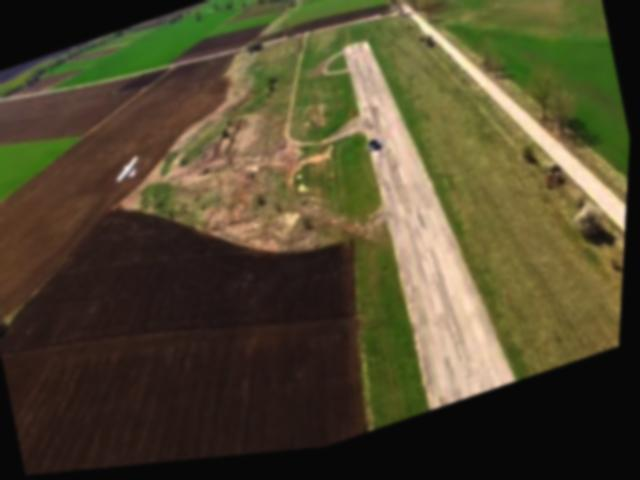uav: (108, 148, 149, 193)
